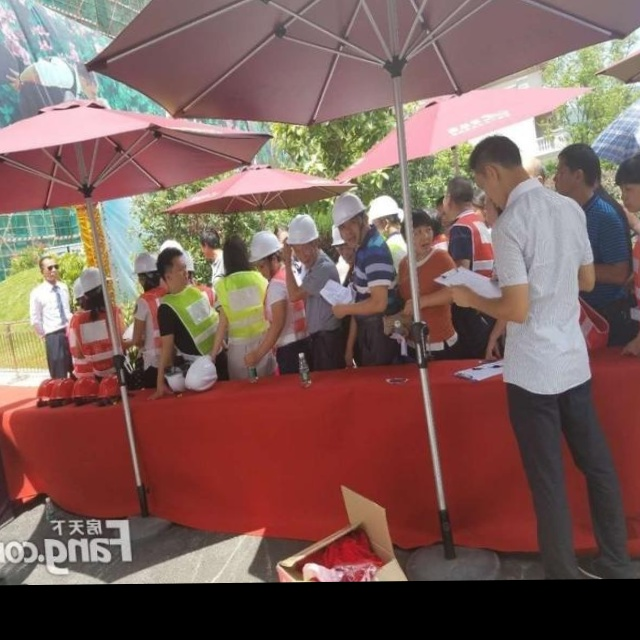Con_Casco: (332, 191, 370, 245)
Sin_Casco_Mascarrilla: (468, 132, 522, 208)
Sin_Chaleco: (495, 192, 588, 367)
